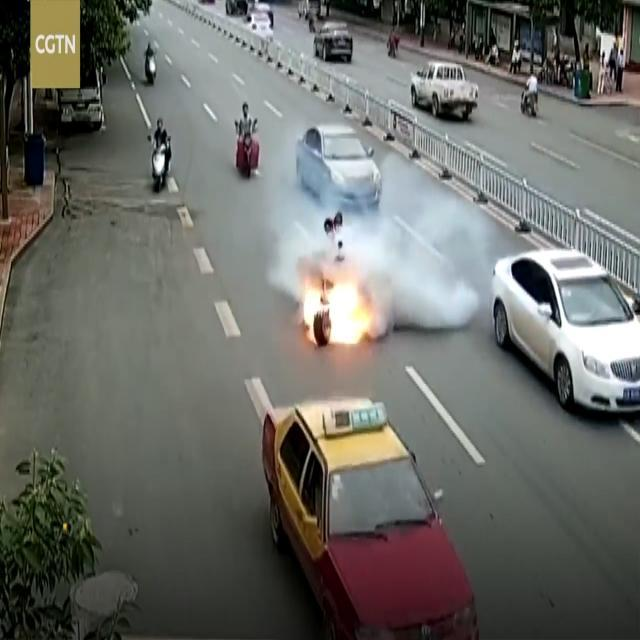Fire: (302, 280, 373, 346)
Smoke: (271, 151, 478, 330)
